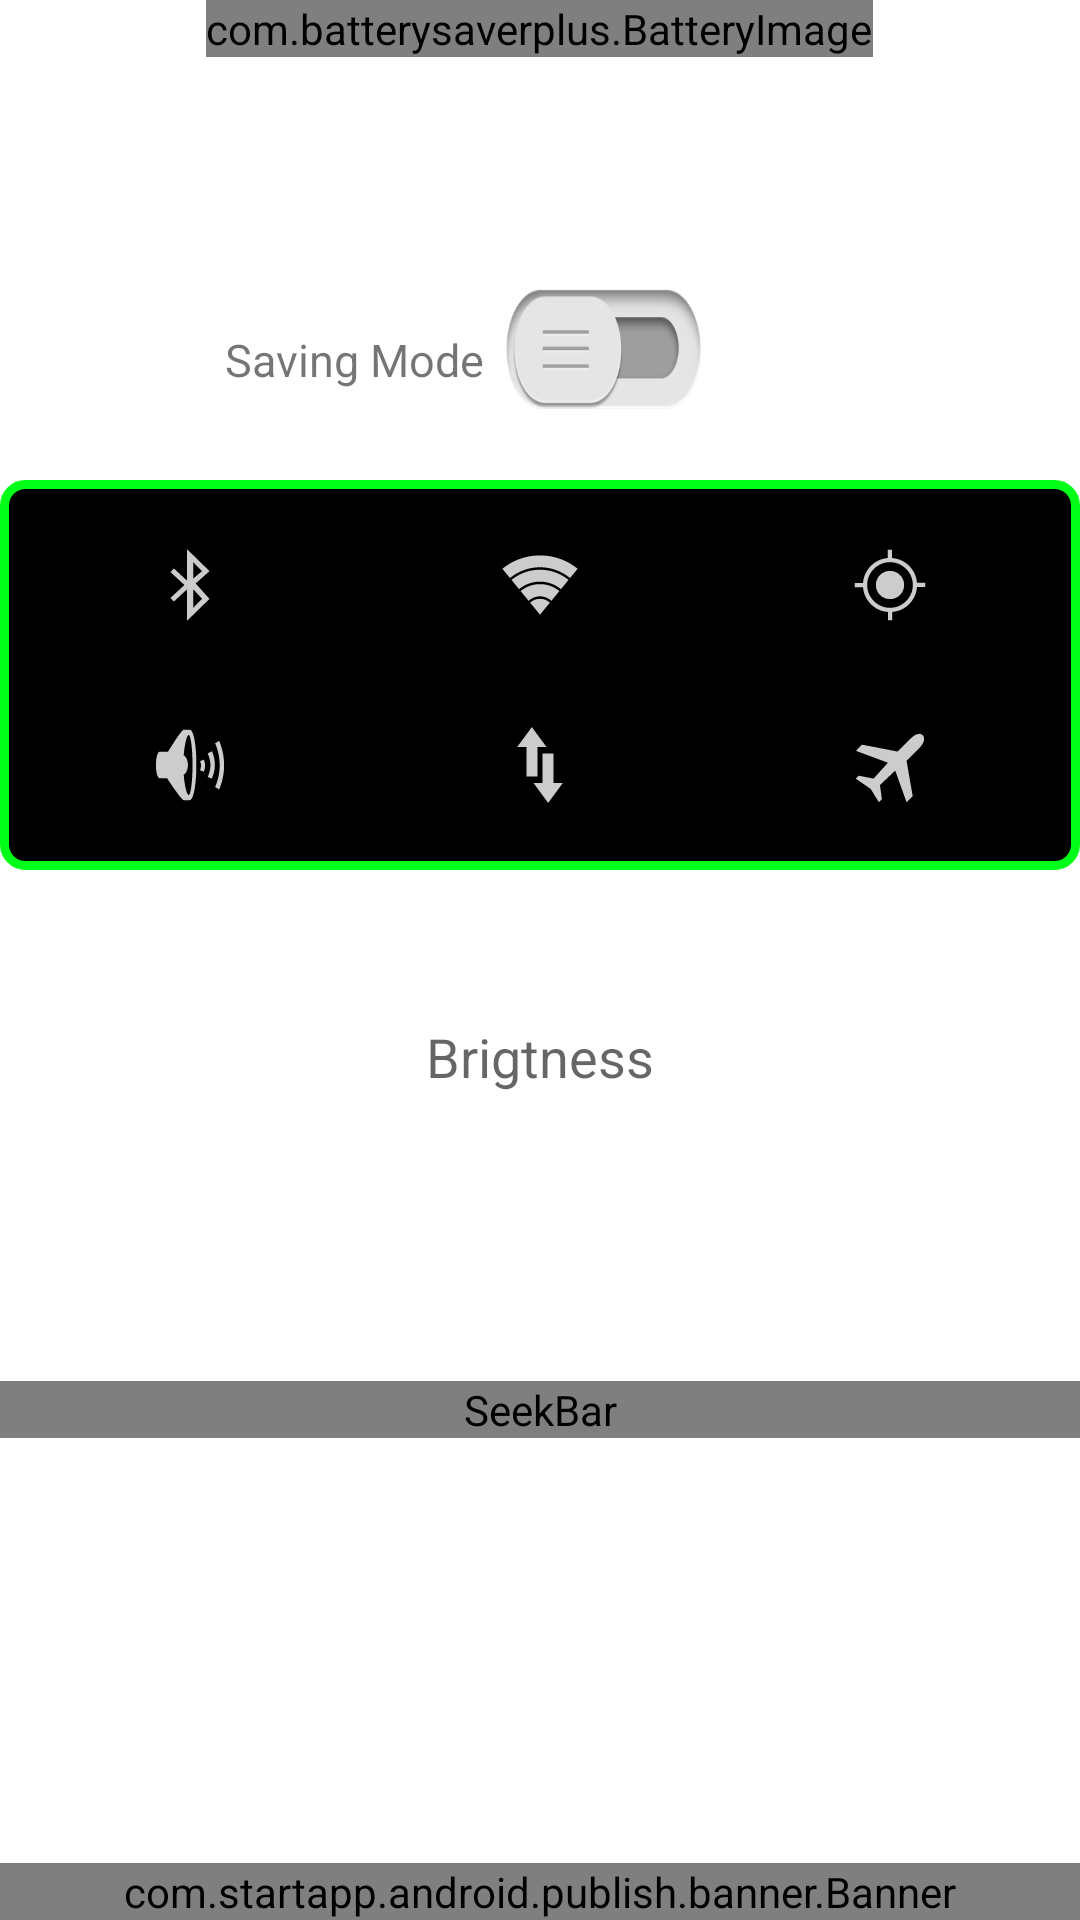

Screen size 1080 x 1920. Icon name, then its box in pixels as [left=x1, top=y1, right=x2, bottom=y2]:
import export: [left=517, top=727, right=563, bottom=803]
location found: [left=854, top=549, right=926, bottom=621]
network wifi: [left=502, top=555, right=578, bottom=615]
volume on: [left=156, top=729, right=224, bottom=801]
